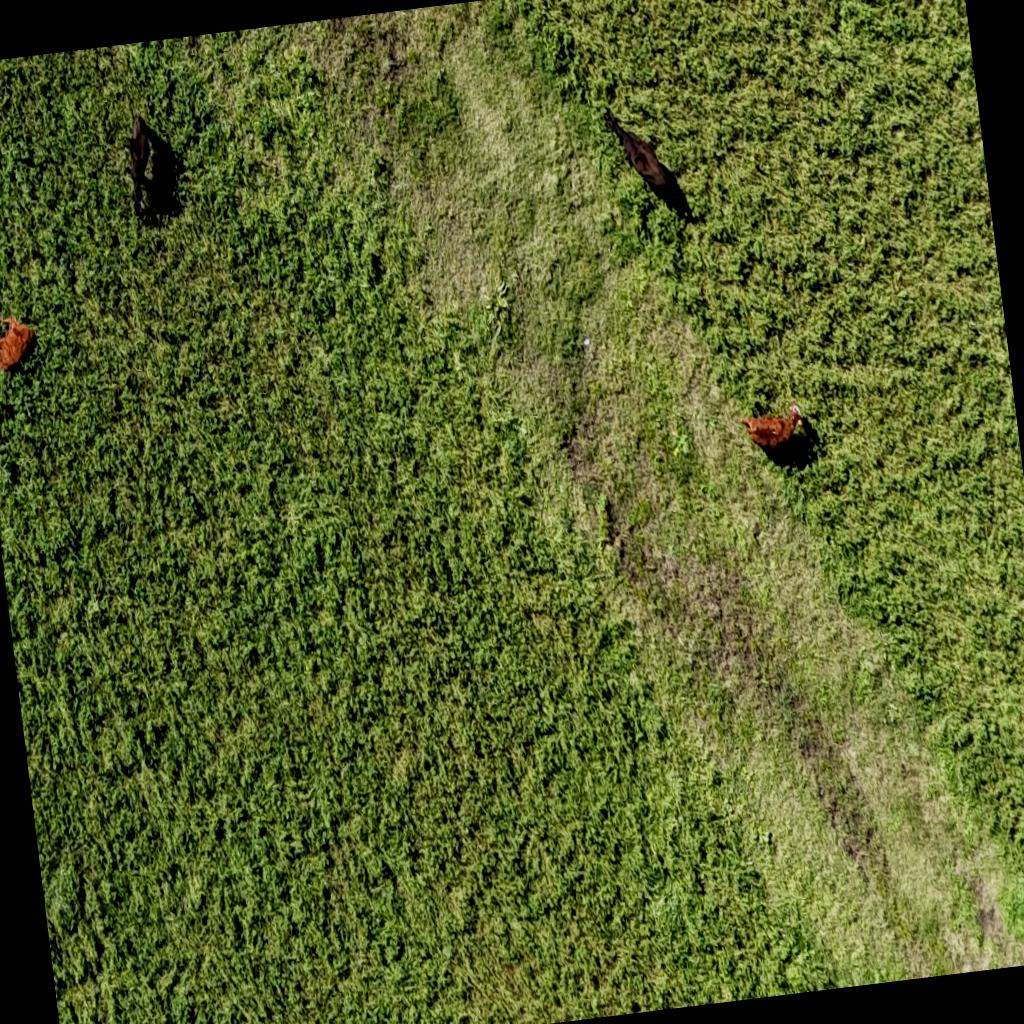cow: (592, 90, 712, 254), (734, 390, 836, 472), (118, 108, 176, 226), (0, 306, 41, 377)
